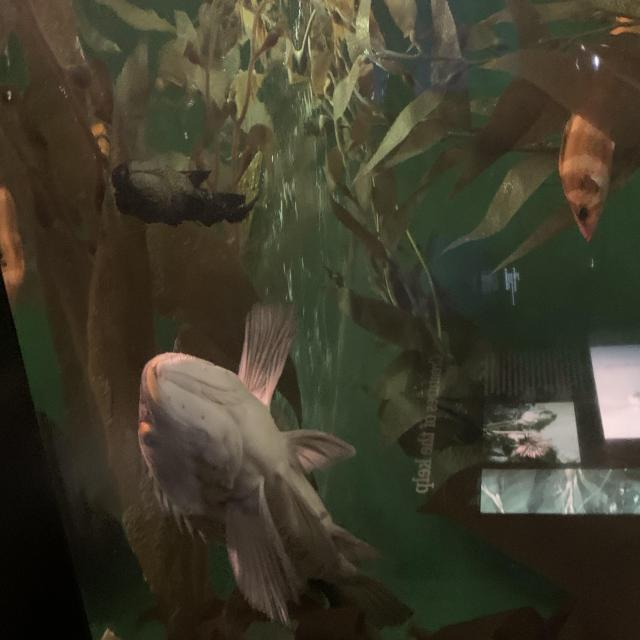fish: (136, 298, 417, 636), (557, 10, 639, 244), (113, 167, 209, 216)
